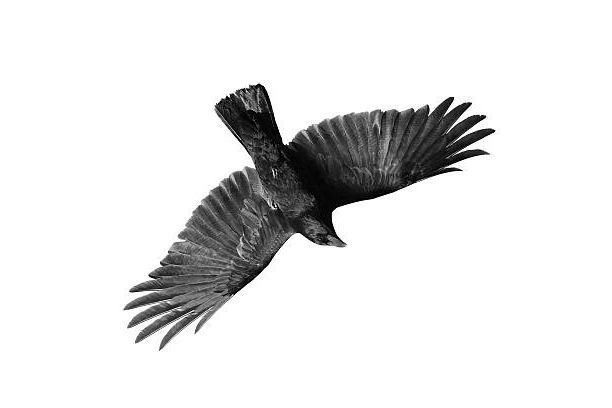Bird: (122, 76, 495, 359)
